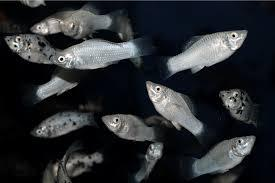fish: (158, 25, 253, 82), (137, 77, 208, 141), (182, 130, 265, 183), (48, 36, 160, 73), (26, 106, 109, 145), (98, 109, 172, 148), (215, 80, 266, 131), (125, 135, 176, 183), (51, 38, 91, 74), (142, 73, 173, 113), (224, 128, 258, 162), (215, 28, 251, 59), (213, 82, 245, 115), (28, 116, 56, 143)
